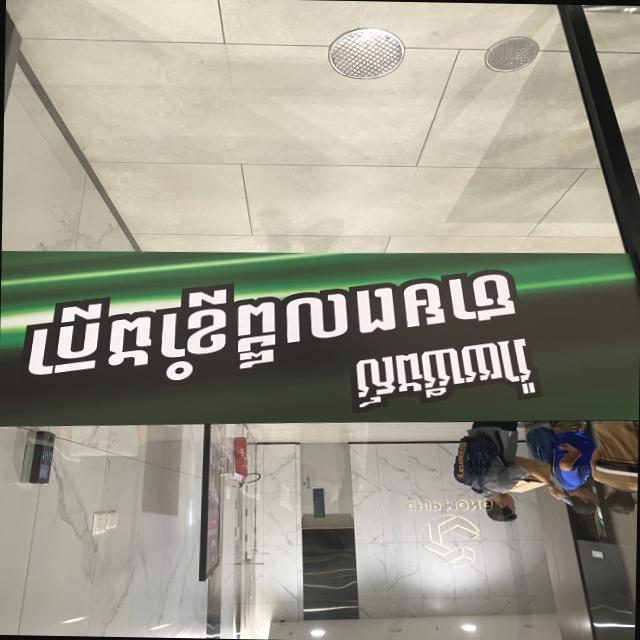Yolov11kh: (231, 244, 533, 377), (18, 279, 237, 396), (341, 325, 545, 417)
